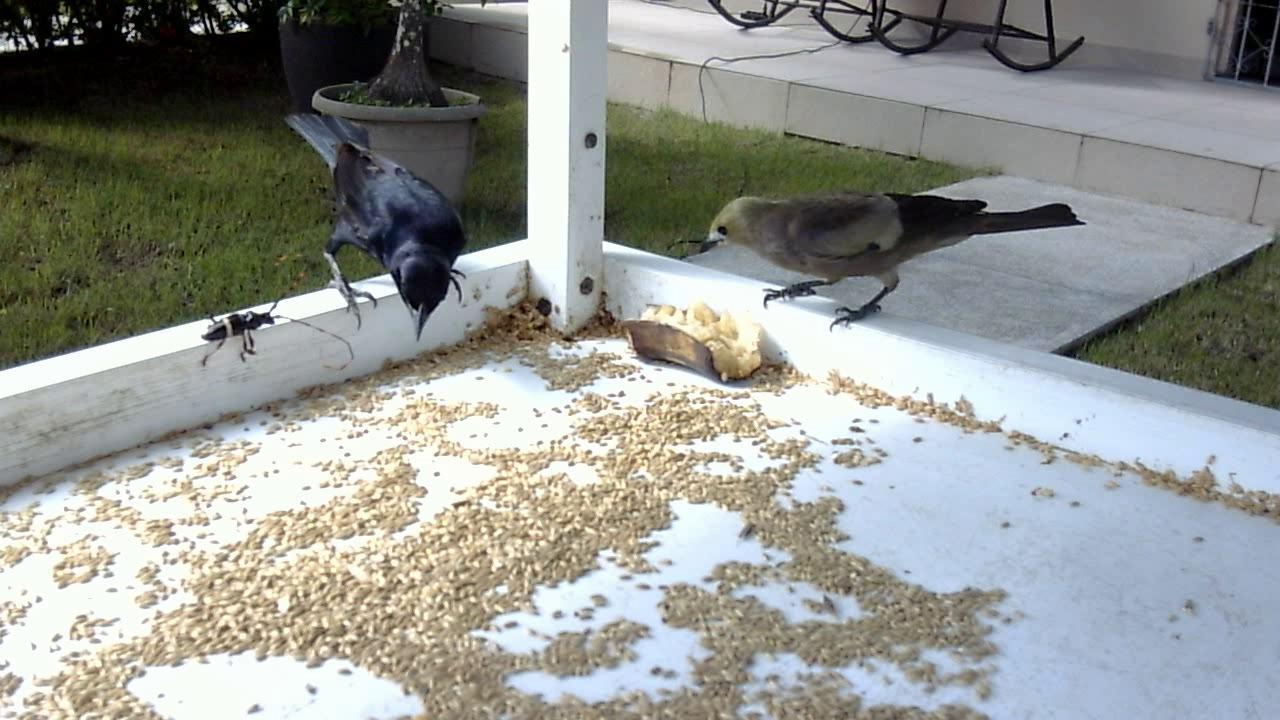chupim: (203, 119, 482, 365)
sanhaco_do_coqueiro: (684, 163, 1084, 354)
